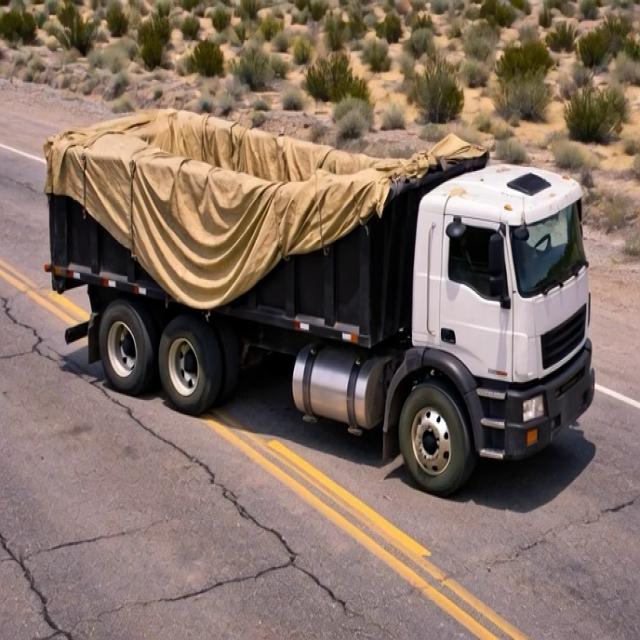trailer: (45, 102, 484, 208)
truck: (35, 92, 604, 518)
